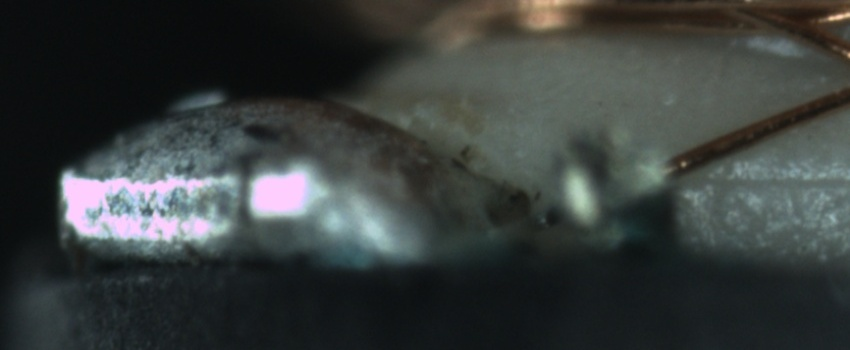DL: (697, 152, 850, 216)
